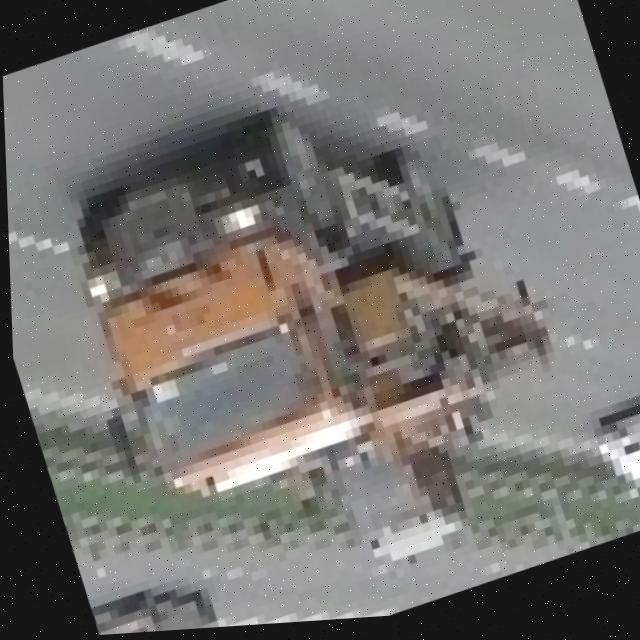truck: (22, 49, 608, 639)
